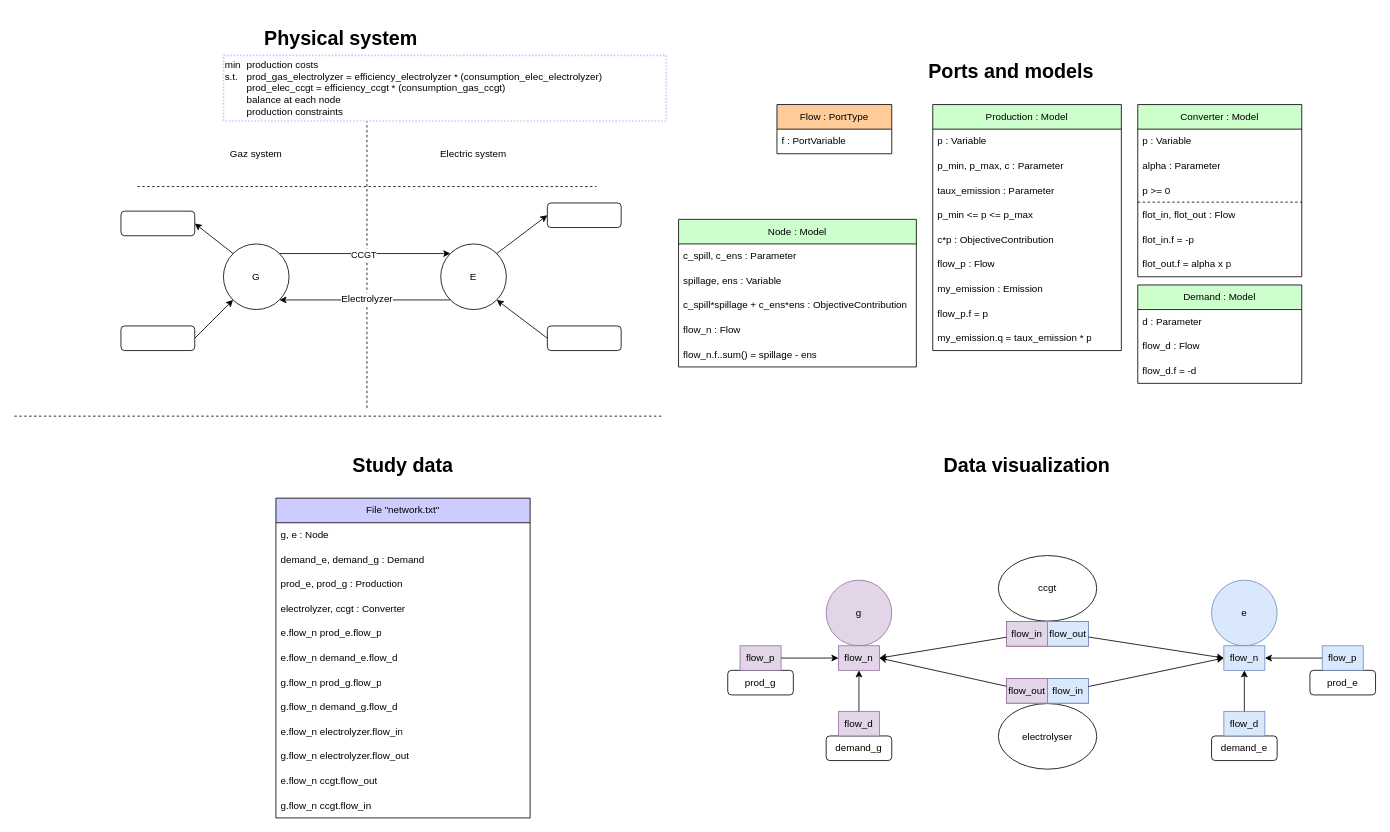
Some shapes in this 1390 by 832 pixel diagram are drawn without their labels. Here are the shapes that lost their labels. From the top down, the centre of each, then its label:
the point at 157,223: Gaz demand
the point at 584,215: Elec demand
the point at 157,338: Gaz production
the point at 584,338: Elec production
